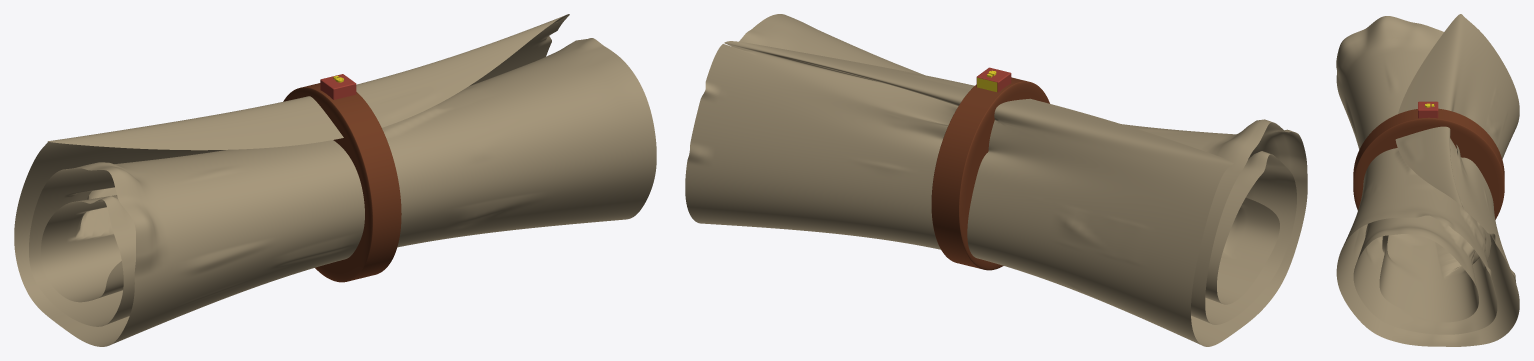
The model's file is stylizednote.fbx.
3 views of the same model, side by side, from view 1: azimuth 30°, elevation 25°; view 2: azimuth 150°, elevation 25°; view 3: azimuth 270°, elevation 25° (orthographic). The views are drawn at different scales.
Parts seen in each view (by area): view 1: Plane, Cylinder, Cube; view 2: Plane, Cylinder, Cube; view 3: Plane, Cylinder, Cube.
Part boxes in pixels (x1,y1,x2,y2): Plane: [14, 14, 656, 346]; Cylinder: [283, 83, 401, 282]; Cube: [320, 74, 356, 99]; Plane: [685, 14, 1307, 346]; Cylinder: [931, 77, 1049, 270]; Cube: [976, 67, 1011, 92]; Plane: [1336, 14, 1519, 346]; Cylinder: [1353, 108, 1504, 219]; Cube: [1418, 101, 1438, 118].
Bounding box in the file's own units: 191 × 67.66 × 75.91.
